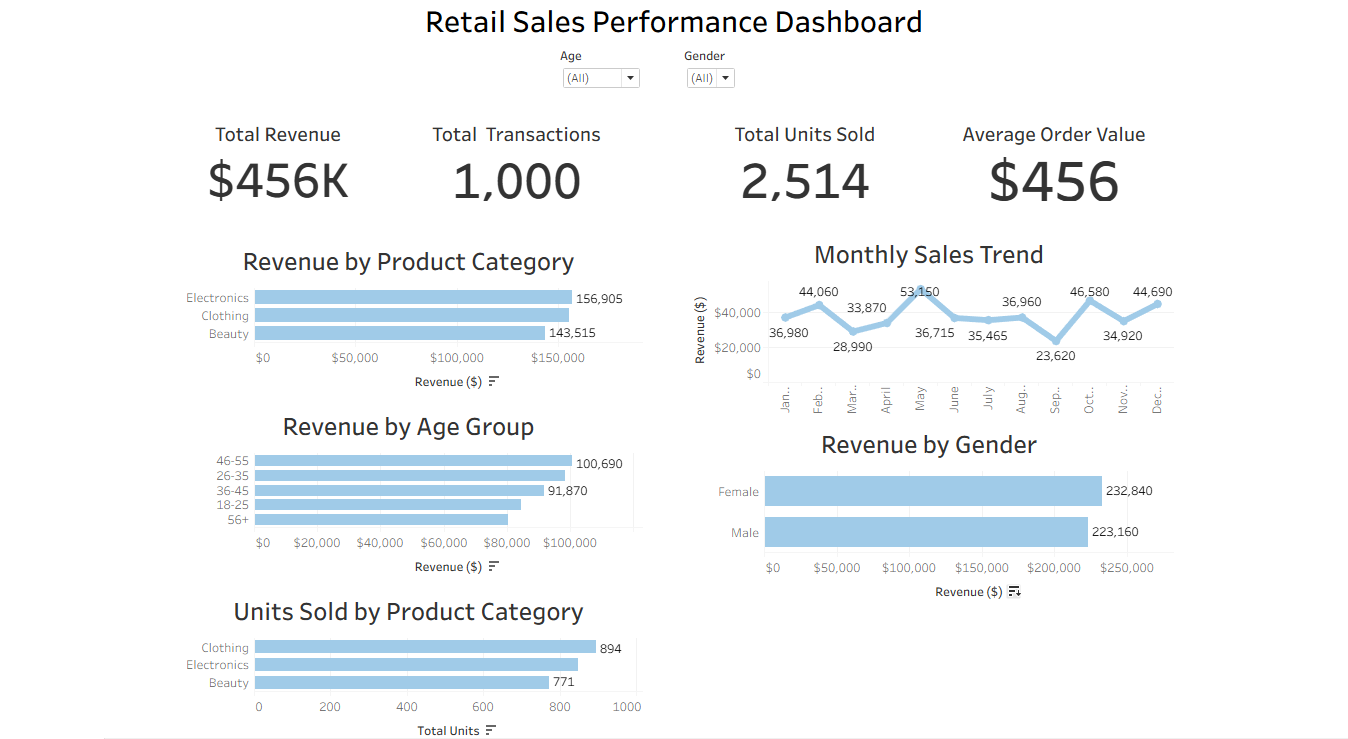

What the dashboard file says about the page in this screenshot:
{"tool":"tableau","page":{"name":"Dashboard 1","canvas":[1024,768],"ordinal":0},"visuals":[{"type":"text","box":[8,8,1008,45.1]},{"type":"filter","title":"Sheet 1","param":"[federated.1o5ur9c0gjwdp111ra1ug1xppmnk].[none:Age:ok]","box":[394.2,53.1,91.2,69.1]},{"type":"blank","box":[485.4,53.1,33.1,683.9]},{"type":"filter","title":"Sheet 1","param":"[federated.1o5ur9c0gjwdp111ra1ug1xppmnk].[none:Gender:nk]","box":[518.5,53.1,62.1,69.1]},{"type":"worksheet","title":"Sheet 6","mark":"Text","box":[8,122.1,216,93.5]},{"type":"worksheet","title":"Sheet 7","mark":"Text","box":[224,122.1,261.4,93.5]},{"type":"worksheet","title":"Sheet 8","mark":"Text","box":[518.5,122.1,249.6,93]},{"type":"worksheet","title":"Sheet 9","mark":"Text","box":[768.1,122.1,247.9,93]},{"type":"worksheet","title":"Sheet 2","mark":"Automatic","rows":["Total Amount"],"cols":["Date"],"box":[518.5,238.5,497.5,190.5]},{"type":"worksheet","title":"Sheet 1","mark":"Automatic","rows":["Product Category"],"cols":["Total Amount"],"box":[8,245.8,477.4,165]},{"type":"worksheet","title":"Sheet 4","mark":"Automatic","rows":["Calculation_1457144994439169"],"cols":["Total Amount"],"box":[8,410.8,477.4,185]},{"type":"worksheet","title":"Sheet 3","mark":"Automatic","rows":["Gender"],"cols":["Total Amount"],"box":[518.5,429.1,497.5,192]},{"type":"worksheet","title":"Sheet 5","mark":"Automatic","rows":["Product Category"],"cols":["Quantity"],"box":[8,595.9,477.4,164.1]}]}

Visuals, with their boxes on the page's 1024x768 design canvas (x1, y1, x2, y2). These are canvas units, not pixel positions in the 1348x739 screenshot, which may show the page scaled, cropped or inside an application window:
text: bbox=[8, 8, 1016, 53]
"Sheet 1" filter: bbox=[394, 53, 485, 122]
blank: bbox=[485, 53, 518, 737]
"Sheet 1" filter: bbox=[518, 53, 581, 122]
"Sheet 6" worksheet (Text marks): bbox=[8, 122, 224, 216]
"Sheet 7" worksheet (Text marks): bbox=[224, 122, 485, 216]
"Sheet 8" worksheet (Text marks): bbox=[518, 122, 768, 215]
"Sheet 9" worksheet (Text marks): bbox=[768, 122, 1016, 215]
"Sheet 2" worksheet: bbox=[518, 238, 1016, 429]
"Sheet 1" worksheet: bbox=[8, 246, 485, 411]
"Sheet 4" worksheet: bbox=[8, 411, 485, 596]
"Sheet 3" worksheet: bbox=[518, 429, 1016, 621]
"Sheet 5" worksheet: bbox=[8, 596, 485, 760]
